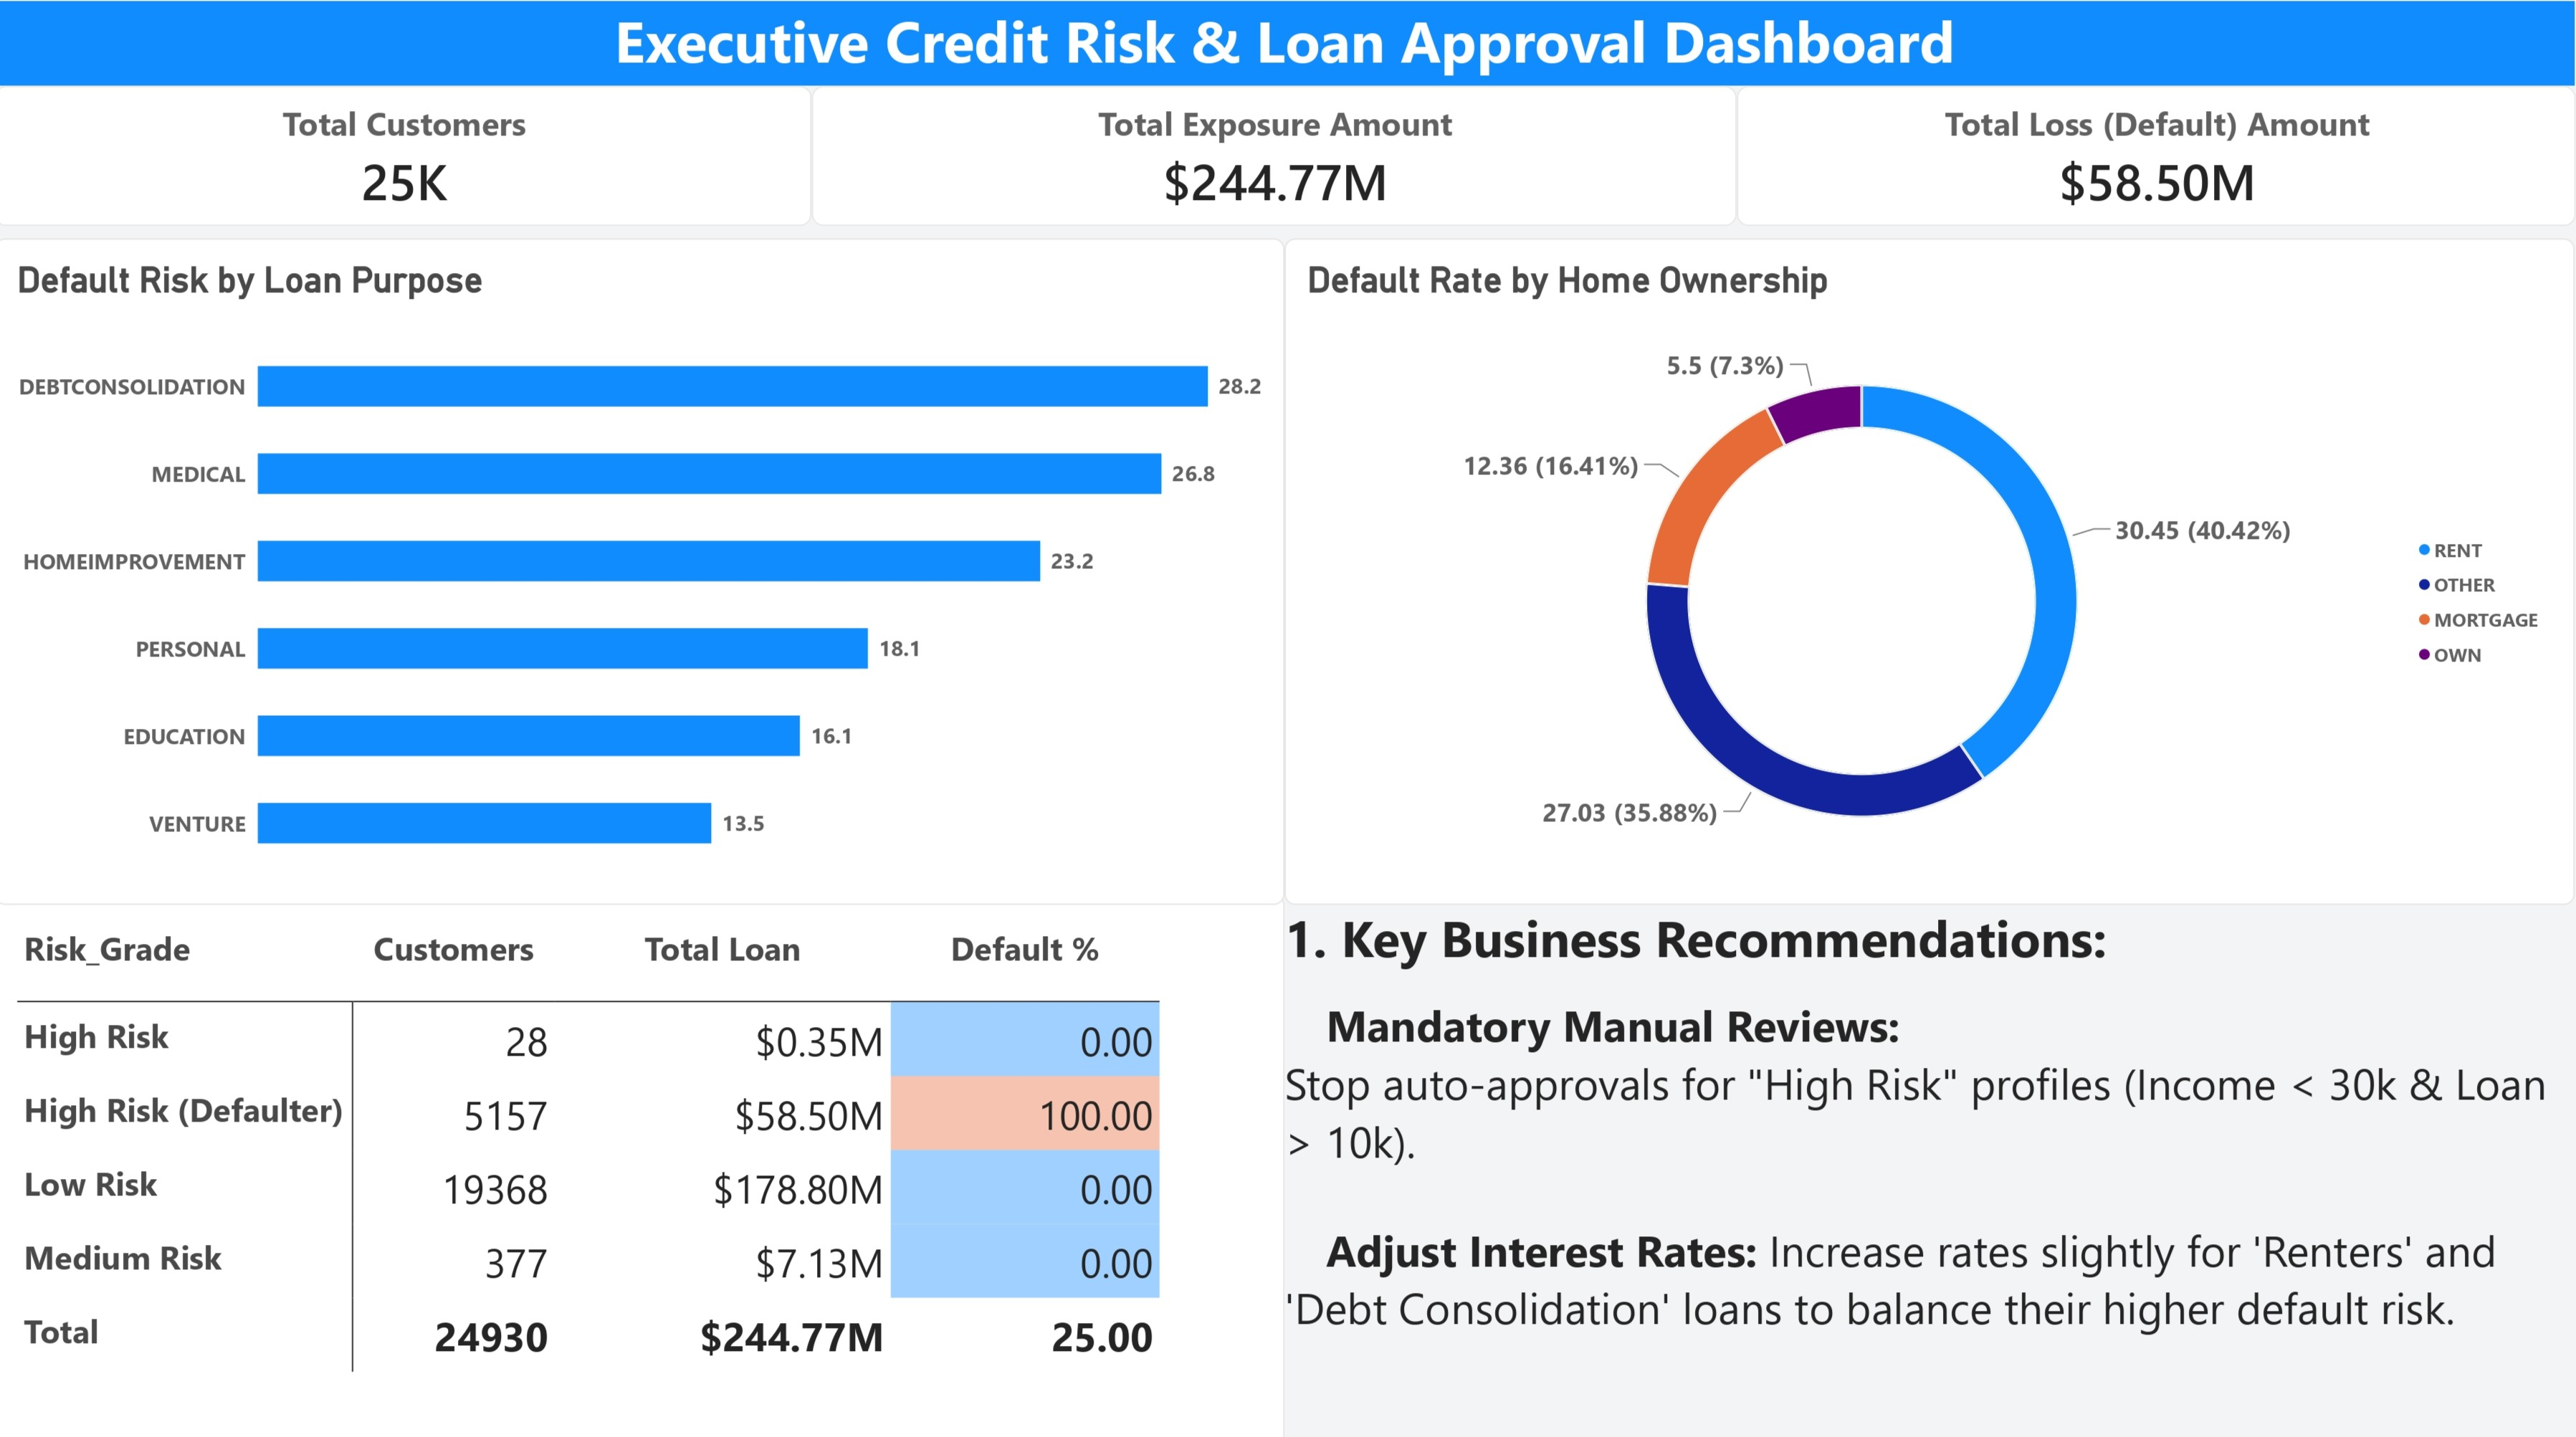

The page's visual inventory and layout, read from the dashboard file:
{"tool":"powerbi","page":{"name":"Page 1","canvas":[1920,1080],"ordinal":0},"visuals":[{"type":"textbox","box":[0,0,1920.4,62.8],"z":0},{"type":"cardVisual","fields":{"Data":["Sum(Risk_Grade_Analysis.Total_Loan_Amount)"]},"box":[608,64,688,104],"z":1000},{"type":"cardVisual","fields":{"Data":["Sum(Risk_Grade_Analysis.Total_Default_Amount)"]},"box":[1296,64,624,104],"z":2000},{"type":"pivotTable","fields":{"Rows":["Risk_Grade_Analysis.Risk_Grade"],"Values":["Sum(Risk_Grade_Analysis.Total_Customers)","Sum(Risk_Grade_Analysis.Total_Loan_Amount)","Avg(Risk_Grade_Analysis.Default_Rate_Pct)"]},"box":[0,665.6,960,414.4],"z":3000},{"type":"clusteredBarChart","title":"Default Risk by Loan Purpose","fields":{"Category":["Loan_Purpose_Analysis.Loan_Purpose"],"Y":["Sum(Loan_Purpose_Analysis.Default_Rate_Pct)"]},"box":[0,176,960,496],"z":4000},{"type":"donutChart","title":"Default Rate by Home Ownership","fields":{"Category":["Home_Ownership_Analysis.Home_Ownership"],"Y":["Avg(Home_Ownership_Analysis.Default_Rate_Pct)"]},"box":[960,176,960,496],"z":5000},{"type":"textbox","box":[960,671.7,960,408.3],"z":6000},{"type":"cardVisual","fields":{"Data":["Sum(Risk_Grade_Analysis.Total_Customers)"]},"box":[0,64,608,104],"z":7000}]}

Visuals, with their boxes in screenshot pixels (x1, y1, x2, y2), scaled from the page's 1920x1080 canvas onto the 2576x1437 screenshot:
textbox: [0, 0, 2575, 84]
cardVisual - Sum(Risk_Grade_Analysis.Total_Loan_Amount): [816, 85, 1739, 224]
cardVisual - Sum(Risk_Grade_Analysis.Total_Default_Amount): [1739, 85, 2575, 224]
pivotTable - Risk_Grade_Analysis.Risk_Grade x Sum(Risk_Grade_Analysis.Total_Customers): [0, 886, 1288, 1436]
"Default Risk by Loan Purpose" clusteredBarChart: [0, 234, 1288, 894]
"Default Rate by Home Ownership" donutChart: [1288, 234, 2575, 894]
textbox: [1288, 894, 2575, 1436]
cardVisual - Sum(Risk_Grade_Analysis.Total_Customers): [0, 85, 816, 224]
